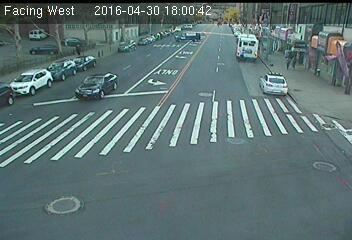neg: (313, 63, 326, 81), (262, 50, 274, 66), (95, 47, 104, 60), (200, 88, 209, 100)
pos: (283, 56, 295, 71), (289, 56, 301, 71)
